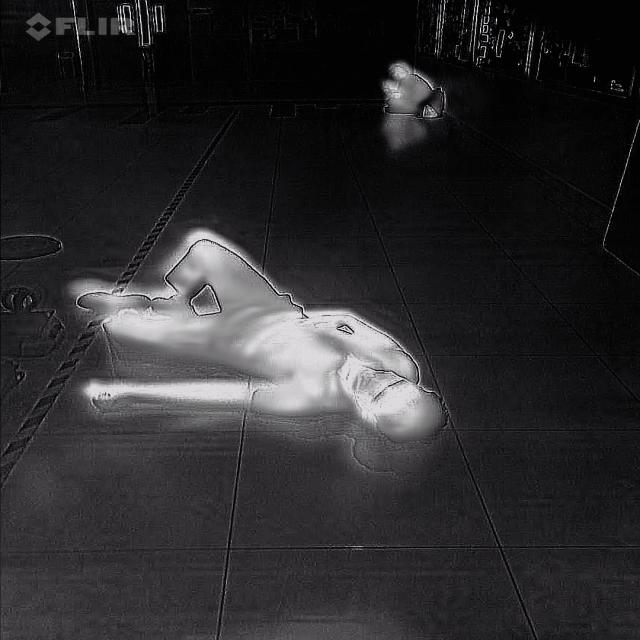Victim: (69, 225, 457, 447), (366, 54, 444, 119)
